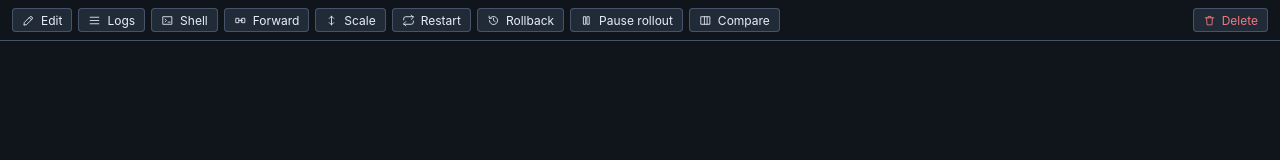
Test: Apply waits for a count different from the one running
Click the button "Scale".
click(351, 20)  # box [315, 8, 386, 32]
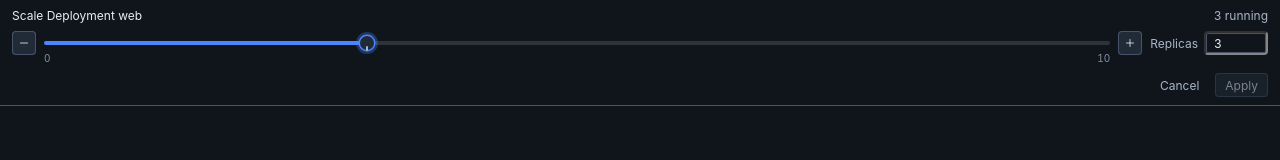
Now the slider named "Replica count" is shown, box [44, 34, 1110, 52]
Now the button "Apply" is disabled, box [1215, 73, 1268, 97]
Replace the text in the number field labelled "Replicas" with "4" at x=1236, y=43, box [1204, 31, 1268, 55]
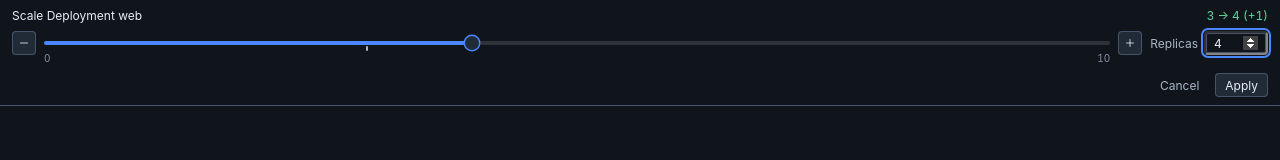
Now the button "Apply" is enabled, box [1215, 73, 1268, 97]
